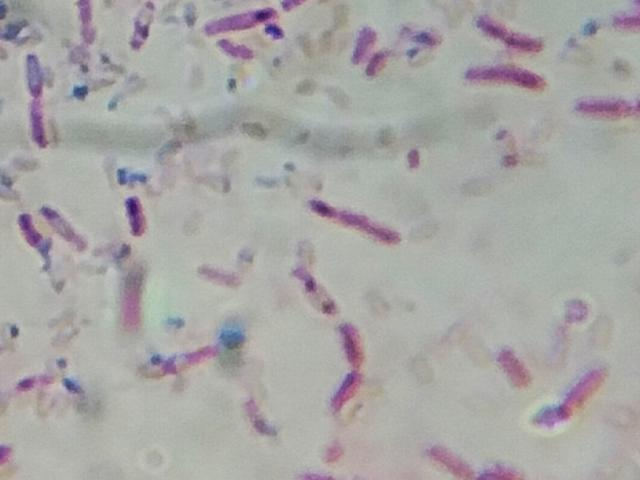E. coli: (309, 193, 401, 248), (21, 52, 59, 154), (548, 357, 606, 418), (335, 323, 368, 415), (293, 263, 344, 320), (133, 343, 224, 374), (478, 12, 545, 53), (46, 199, 91, 256), (463, 63, 545, 93), (579, 85, 640, 125), (206, 0, 274, 34), (125, 0, 160, 57), (19, 375, 88, 400), (498, 339, 529, 391), (15, 213, 47, 262), (123, 193, 156, 233), (213, 37, 251, 59), (349, 22, 369, 61), (368, 47, 389, 82), (279, 0, 315, 16)
